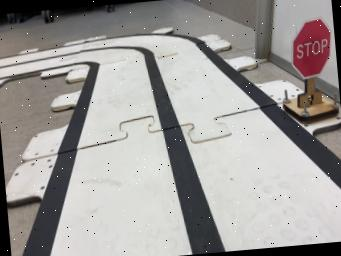stop: (282, 17, 338, 123), (282, 17, 338, 123), (282, 17, 338, 123), (282, 17, 338, 123), (282, 17, 338, 123), (282, 17, 338, 123)
street: (0, 31, 341, 256), (0, 31, 341, 256), (0, 31, 341, 256), (0, 31, 341, 256), (0, 31, 341, 256), (0, 31, 341, 256)
